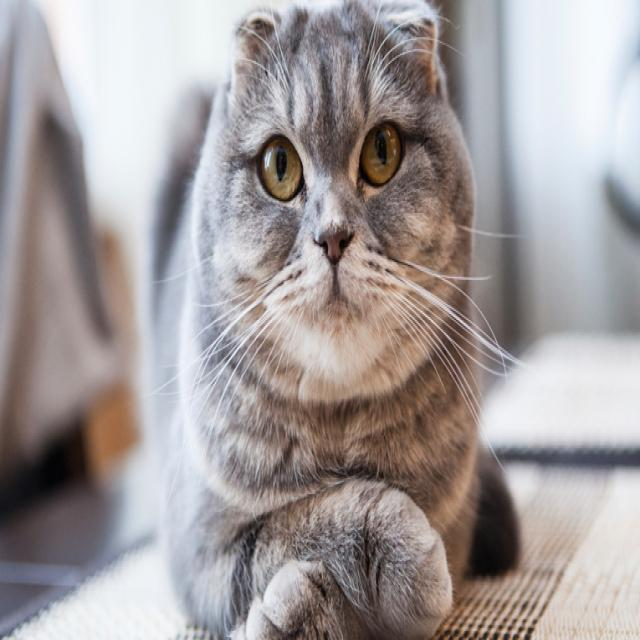Scottish Fold: (143, 0, 526, 640)
